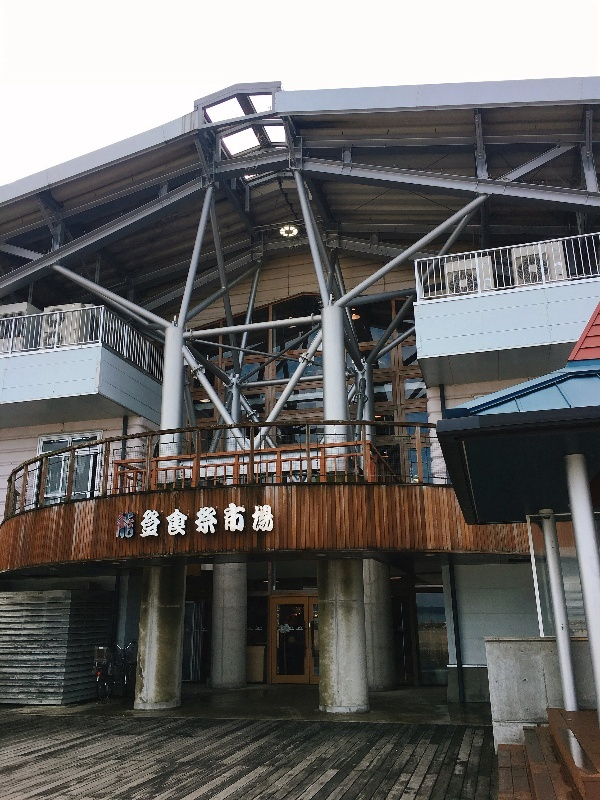text: (129, 502, 144, 540), (145, 502, 160, 540), (161, 502, 176, 540), (177, 502, 192, 540), (193, 502, 208, 540), (209, 502, 224, 540), (225, 502, 240, 540), (241, 502, 256, 540), (257, 502, 272, 540), (117, 502, 128, 540), (273, 502, 276, 540)
